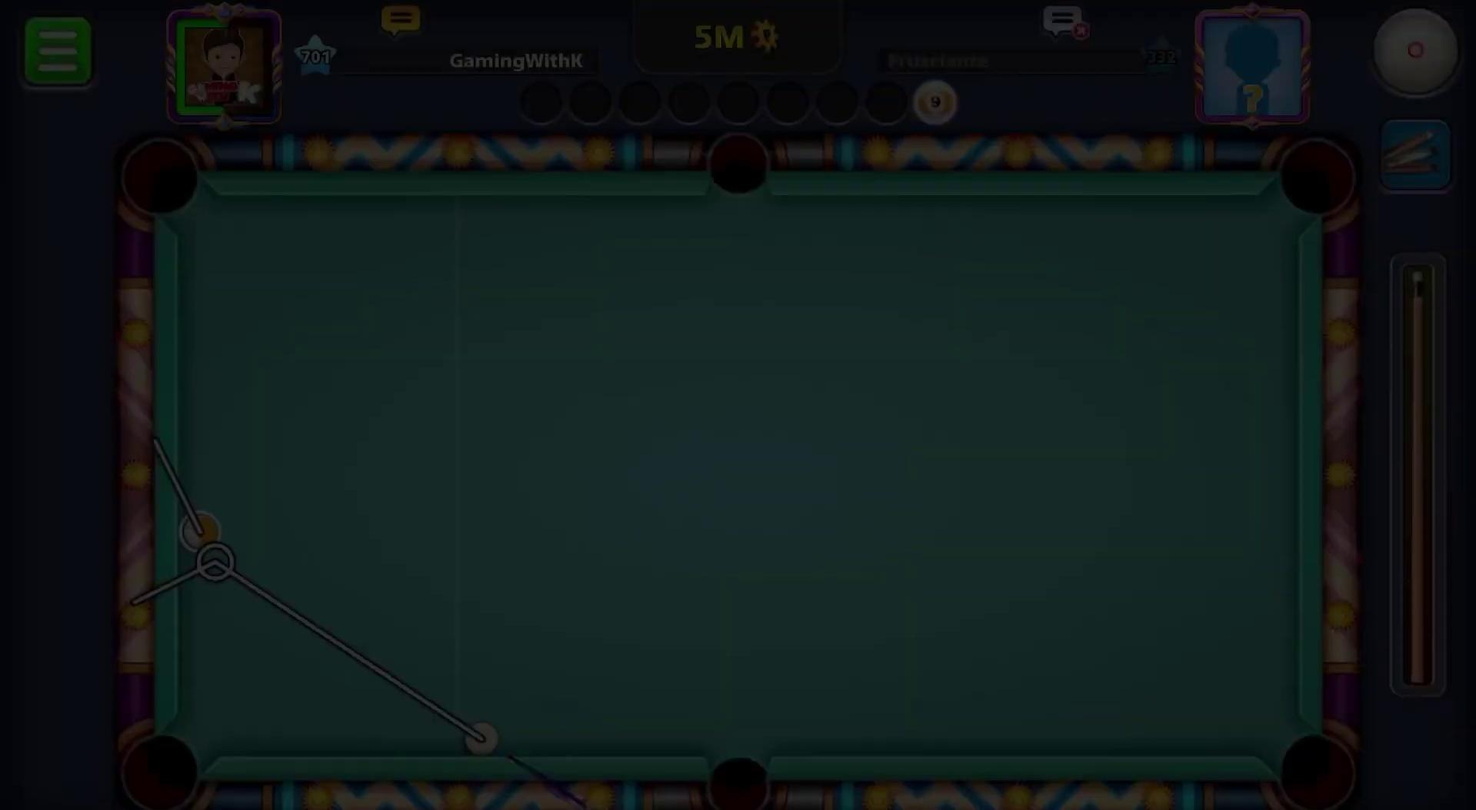Ball: (175, 510, 224, 558)
Force: (1385, 250, 1454, 699)
Guideline: (128, 435, 498, 755)
Hole: (105, 125, 221, 233), (1268, 128, 1364, 232), (1264, 709, 1362, 809), (689, 128, 787, 211), (686, 739, 789, 809)
Play_Area: (171, 193, 1308, 760)
Spin: (1351, 3, 1475, 112)
White: (455, 719, 504, 756)
